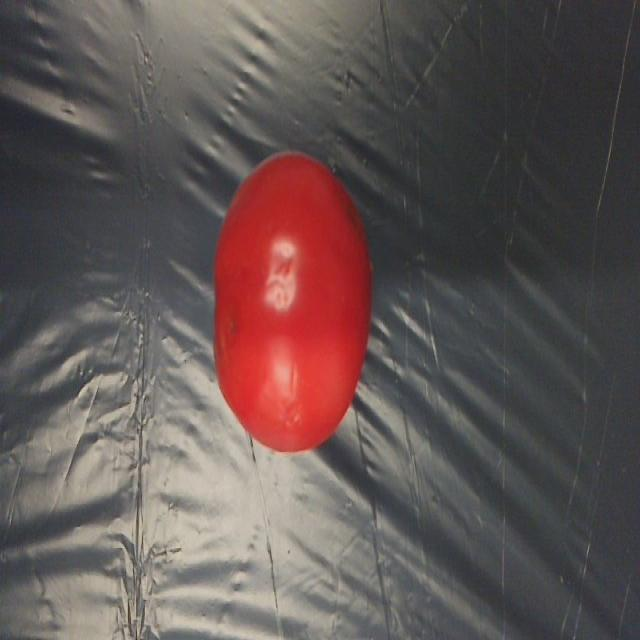kirmizi: (207, 150, 383, 480)
